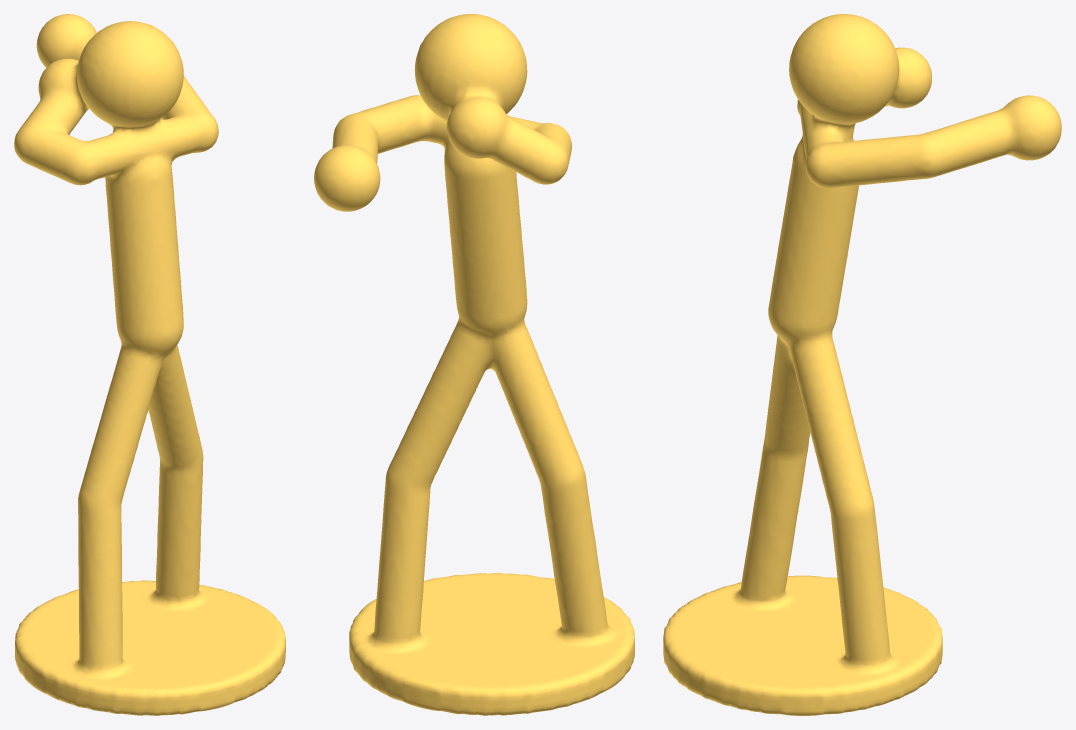
Rendered from mma.glb.
3 views of the same model, side by side, from view 1: azimuth 30°, elevation 25°; view 2: azimuth 150°, elevation 25°; view 3: azimuth 270°, elevation 25° (orthographic). The views are drawn at different scales.
Visible parts, largest first — view 1: mma; view 2: mma; view 3: mma.
Boxes of the visible parts, left/top/right/bottom form: mma: left=14, top=14, right=285, bottom=715; mma: left=314, top=14, right=634, bottom=715; mma: left=663, top=14, right=1061, bottom=715.
Size of the model in its own units: 0.679 by 1.71 by 0.9681.
